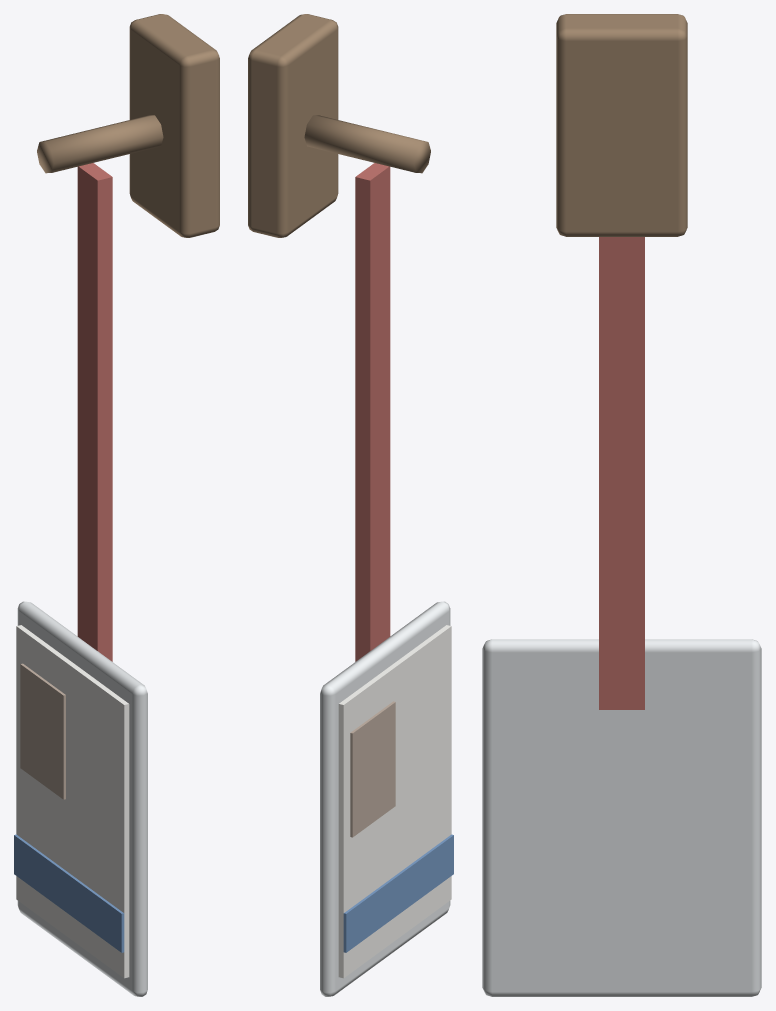
File: escena.casa.credencial_pega.fbx
3 views of the same model, side by side, from view 1: azimuth 30°, elevation 25°; view 2: azimuth 150°, elevation 25°; view 3: azimuth 270°, elevation 25° (orthographic). The views are drawn at different scales.
Parts seen in each view (by area): view 1: Tarjeta, Cordon, Placa del gancho, Porta tarjeta, Foto, Franja de la empresa, Gancho; view 2: Tarjeta, Cordon, Placa del gancho, Porta tarjeta, Foto, Franja de la empresa, Gancho; view 3: Porta tarjeta, Placa del gancho, Cordon.
Part boxes in pixels (left/top/right/bottom): Tarjeta: left=16, top=625, right=129, bottom=978; Cordon: left=77, top=163, right=112, bottom=661; Placa del gancho: left=129, top=14, right=219, bottom=237; Porta tarjeta: left=17, top=601, right=147, bottom=996; Foto: left=20, top=663, right=65, bottom=799; Franja de la empresa: left=14, top=834, right=124, bottom=952; Gancho: left=37, top=115, right=163, bottom=173; Tarjeta: left=338, top=625, right=451, bottom=978; Cordon: left=355, top=163, right=390, bottom=661; Placa del gancho: left=248, top=14, right=338, bottom=237; Porta tarjeta: left=320, top=601, right=450, bottom=996; Foto: left=350, top=701, right=395, bottom=837; Franja de la empresa: left=343, top=834, right=453, bottom=952; Gancho: left=304, top=115, right=430, bottom=173; Porta tarjeta: left=482, top=639, right=761, bottom=996; Placa del gancho: left=556, top=14, right=687, bottom=236; Cordon: left=599, top=237, right=644, bottom=709.
Bounding box in the file's own units: 0.06 × 0.345 × 0.085.
